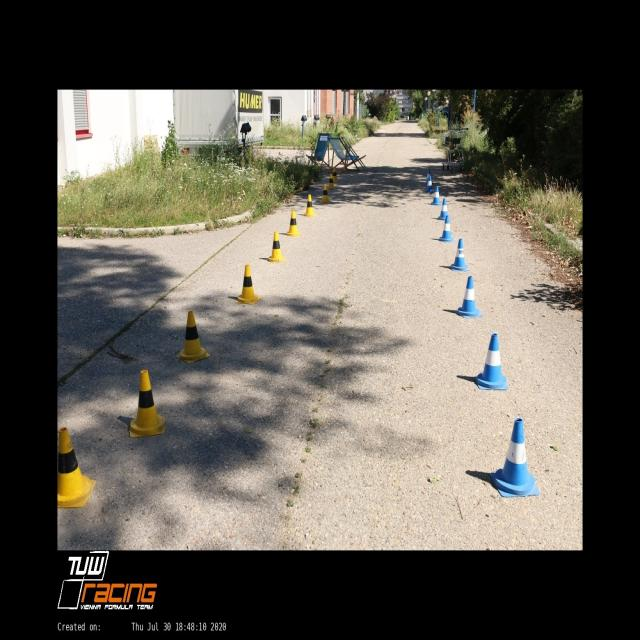blue_cone: (490, 418, 540, 498), (475, 333, 508, 390), (455, 276, 483, 317), (449, 239, 469, 271), (439, 215, 454, 242), (438, 198, 450, 221), (430, 186, 442, 206), (425, 175, 434, 193), (424, 169, 432, 186)
yellow_cone: (57, 428, 96, 508), (129, 369, 166, 437), (176, 310, 211, 364), (235, 264, 261, 304), (266, 231, 287, 262), (286, 210, 301, 237), (304, 194, 316, 217), (319, 184, 332, 204), (326, 174, 334, 190), (332, 168, 338, 183)
